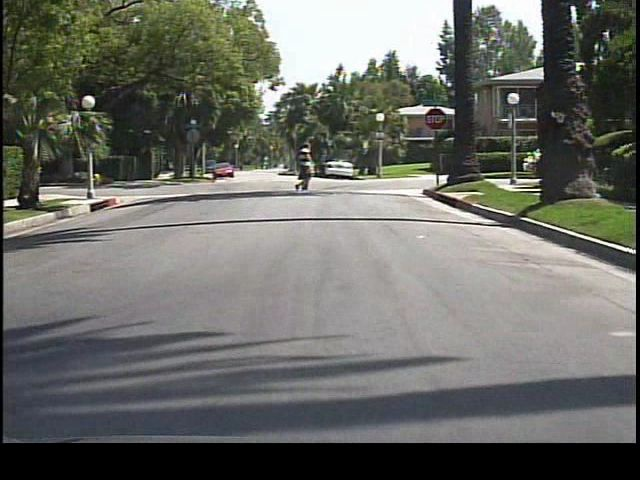person: (292, 143, 315, 192)
